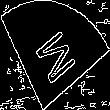M_SW: (30, 22, 80, 88)
